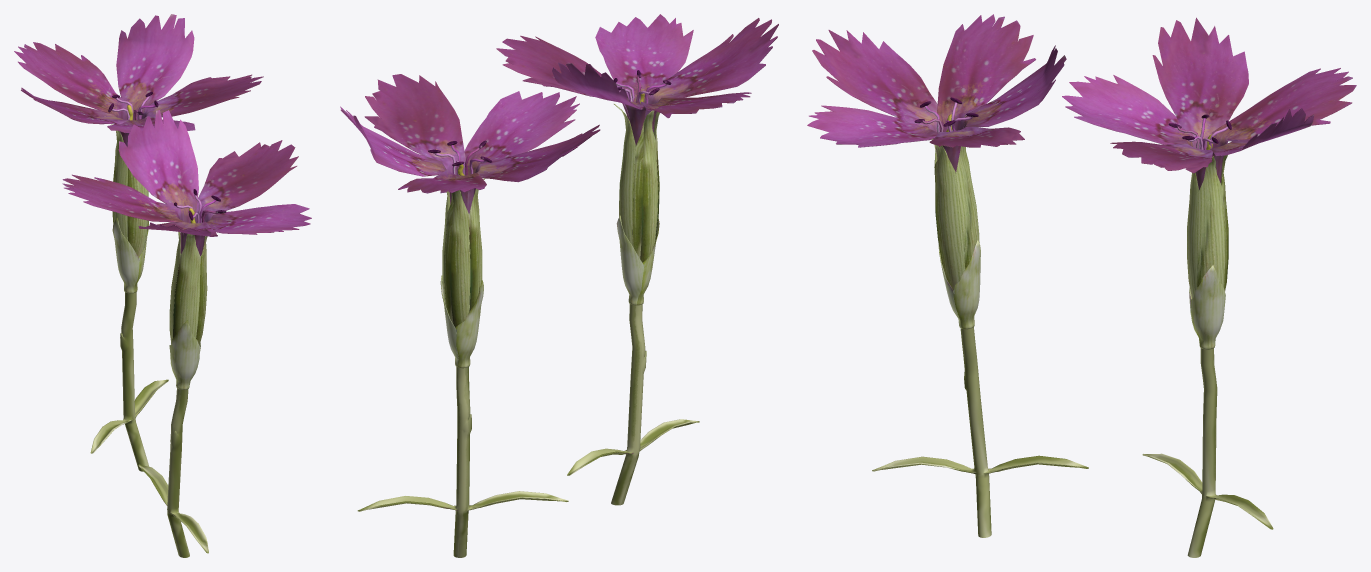
3 renders of one model, left to right at view 1: azimuth 30°, elevation 25°; view 2: azimuth 150°, elevation 25°; view 3: azimuth 270°, elevation 25°, orthographic. The views are drawn at different scales.
Visible parts, largest first — view 1: polySurface112.001, polySurface112; view 2: polySurface112, polySurface112.001; view 3: polySurface112.001, polySurface112.
Boxes of the visible parts, left/top/right/bottom form: polySurface112.001: left=62, top=110, right=311, bottom=557; polySurface112: left=14, top=14, right=263, bottom=471; polySurface112: left=340, top=74, right=600, bottom=557; polySurface112.001: left=496, top=14, right=778, bottom=505; polySurface112.001: left=807, top=14, right=1088, bottom=537; polySurface112: left=1062, top=17, right=1356, bottom=557.
Size of the model in its own units: 1.13 by 1.71 by 1.75.
1 material, 1 textured.
